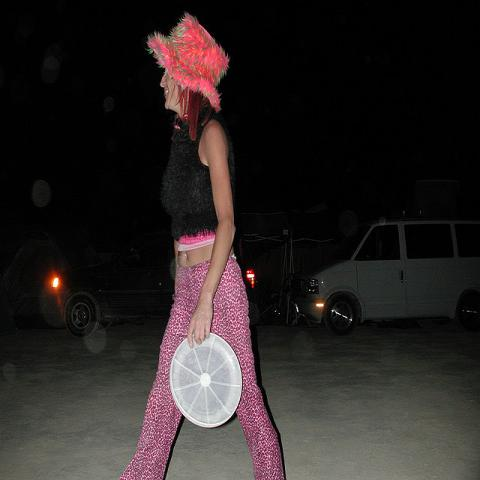car: (300, 220, 479, 334), (40, 237, 175, 337)
